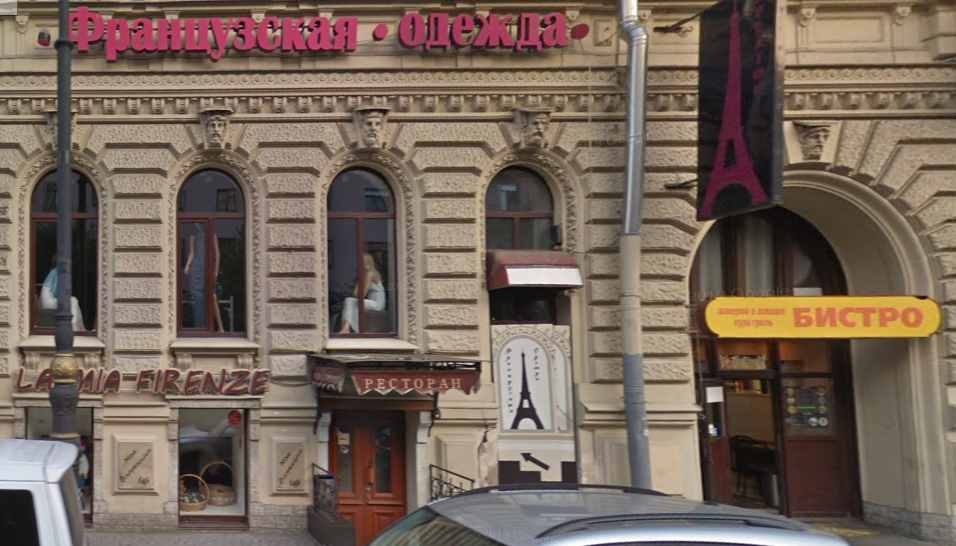cantilever: (660, 1, 785, 225)
door: (703, 371, 776, 520), (329, 412, 400, 535)
signboard: (69, 1, 602, 64), (700, 295, 935, 341), (11, 367, 268, 397)
window: (679, 206, 849, 304), (324, 162, 403, 333), (26, 157, 100, 336), (177, 158, 243, 336), (177, 410, 242, 530), (482, 162, 557, 259), (779, 341, 830, 436)
